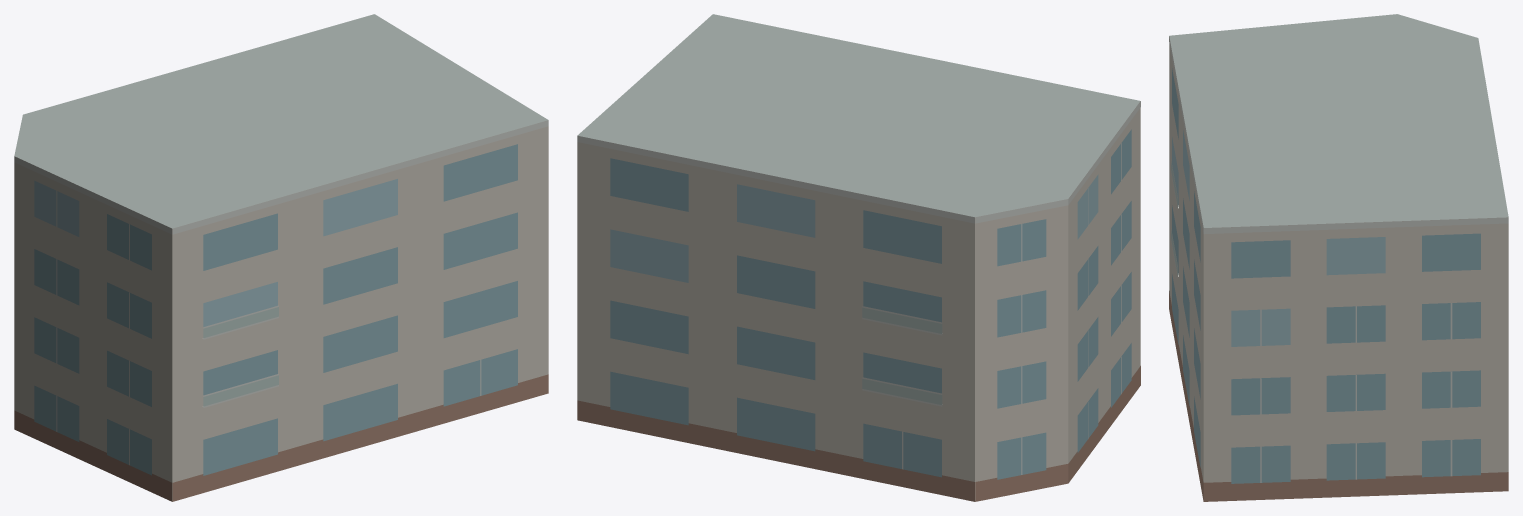
The model's file is survey-upis-32948644.glb.
The picture shows the model from 3 angles, left to right: view 1: azimuth 30°, elevation 25°; view 2: azimuth 150°, elevation 25°; view 3: azimuth 270°, elevation 25°; orthographic projection. The views are drawn at different scales.
Visible parts, largest first — view 1: survey-upis-32948644.tmp; view 2: survey-upis-32948644.tmp; view 3: survey-upis-32948644.tmp.
Boxes of the visible parts, x1,y1,x2,y2 form: survey-upis-32948644.tmp: [14, 14, 548, 501]; survey-upis-32948644.tmp: [577, 14, 1140, 501]; survey-upis-32948644.tmp: [1169, 14, 1508, 501].
Size of the model in its own units: 18.34 by 10.93 by 12.29.
